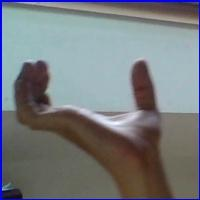B: (7, 48, 172, 174)
